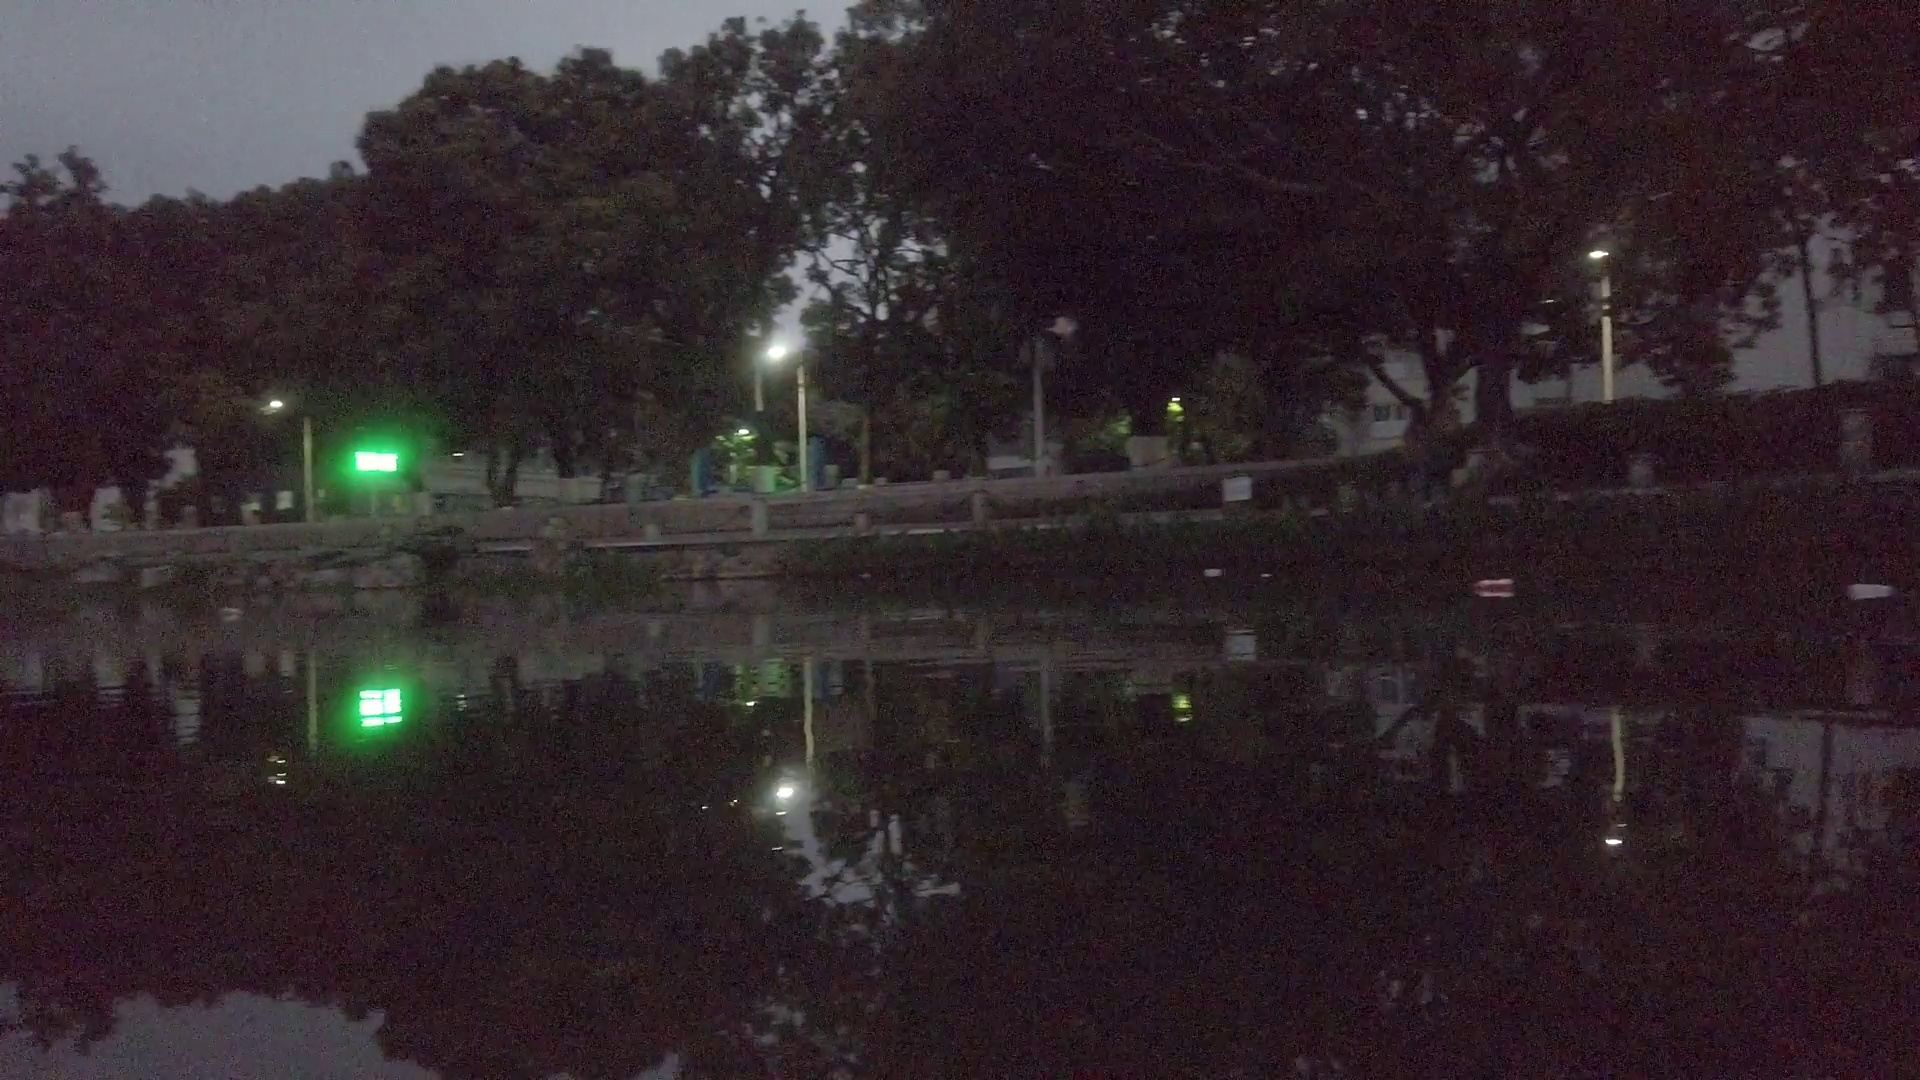bottle: (1851, 582, 1896, 600), (1478, 578, 1515, 592), (219, 605, 247, 618)
carton: (1203, 564, 1221, 578)
